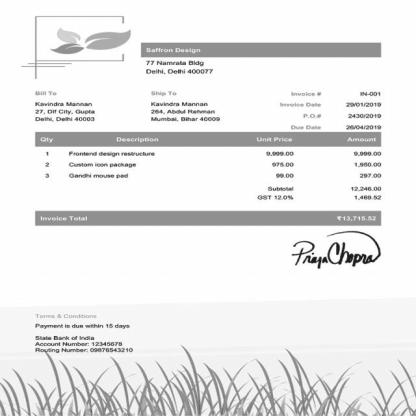Paragraph: (32, 312, 134, 354), (278, 90, 382, 130), (36, 214, 381, 223), (150, 90, 221, 123), (144, 46, 216, 76), (33, 90, 96, 122), (256, 186, 383, 200)
Table: (35, 132, 382, 183)
